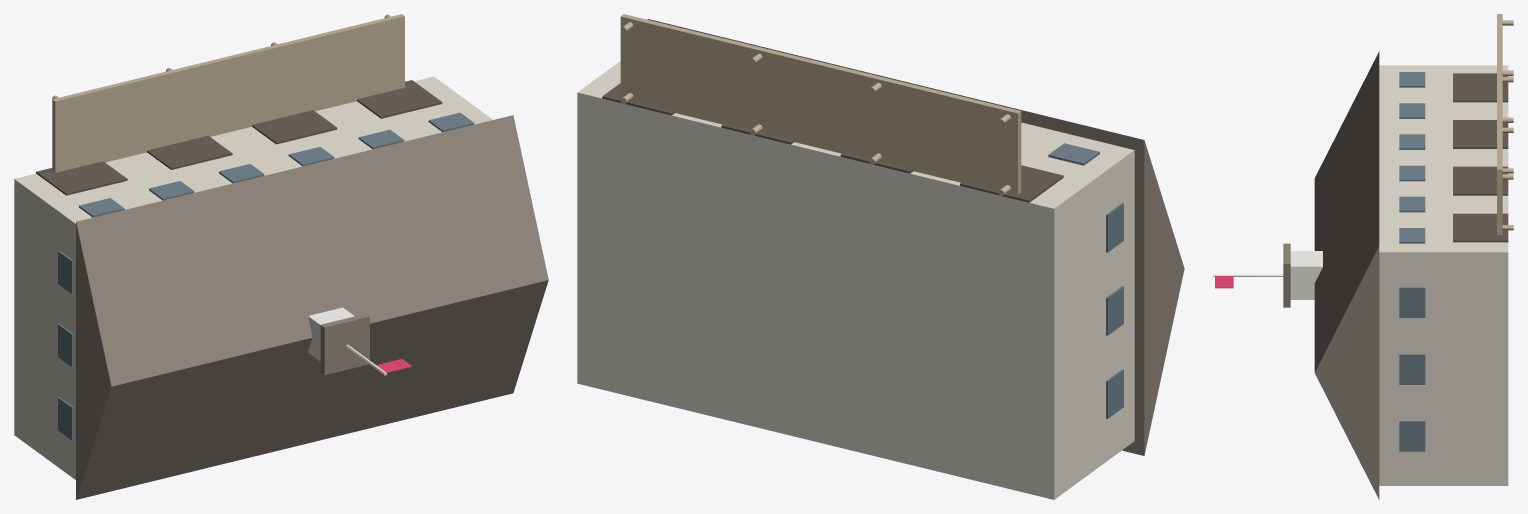
The model's file is r-104-seekonk-boat-club-boathouse.glb.
3 views of the same model, side by side, from view 1: azimuth 30°, elevation 25°; view 2: azimuth 150°, elevation 25°; view 3: azimuth 270°, elevation 25° (orthographic). The views are drawn at different scales.
Parts seen in each view (by area): view 1: roof, walls, dock, bay-doors, windows, cupola; view 2: walls, dock, roof, windows, bay-doors; view 3: walls, roof, bay-doors, windows, dock, cupola.
Part boxes in pixels (x1,y1,x2,y2): roof: (76,115,548,499); walls: (14,76,492,479); dock: (52,14,404,172); bay-doors: (36,80,442,195); windows: (58,112,474,440); cupola: (308,307,386,375); walls: (577,61,1134,499); dock: (620,14,1021,195); roof: (647,19,1184,455); windows: (1048,143,1123,418); bay-doors: (602,83,1063,202); walls: (1379,65,1508,485); roof: (1283,51,1379,499); bay-doors: (1453,73,1508,242); windows: (1399,72,1425,451); dock: (1497,14,1513,234); cupola: (1213,251,1322,299).
Size of the model in its own units: 25000 by 18599 by 16300.
